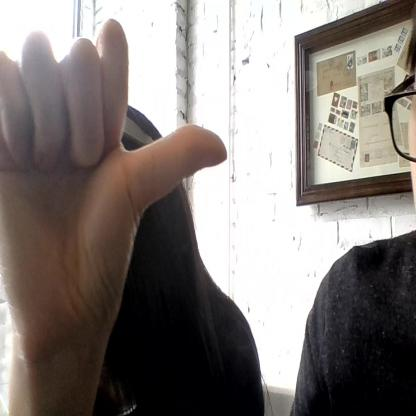left: (0, 17, 231, 330)
